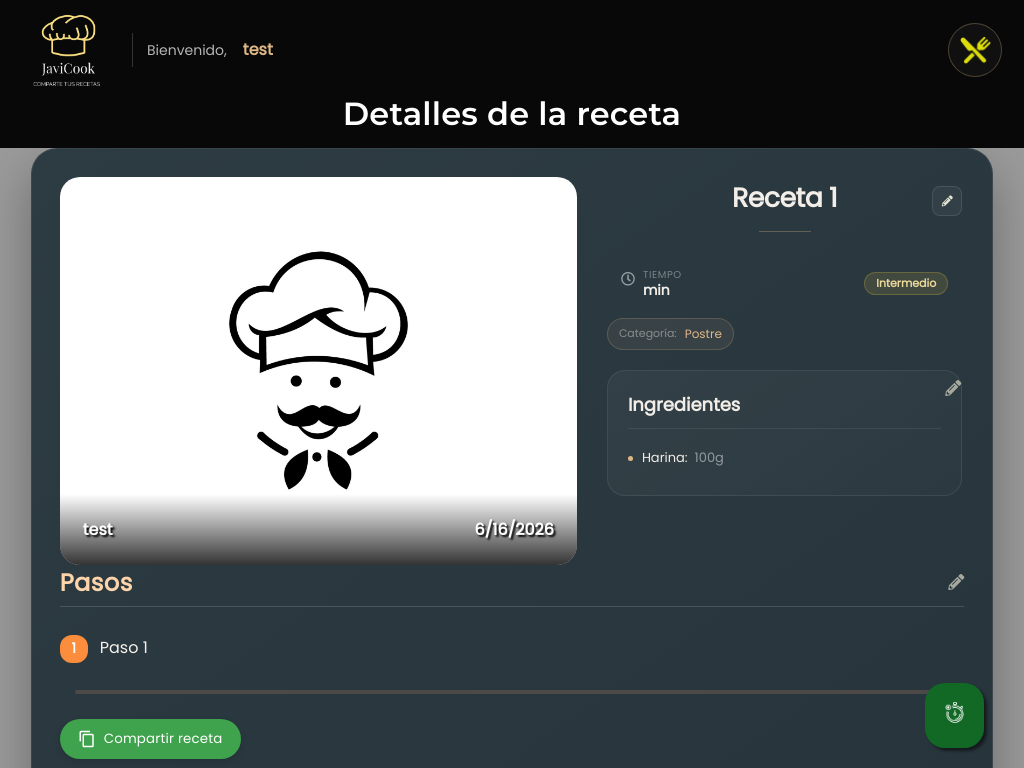
Test: Flujo de recetas › Deberia permitir editar una receta desde el detalle
Click the button with class "btn-editar-titulo" at (947, 201), box left=932, top=186, right=962, bottom=216
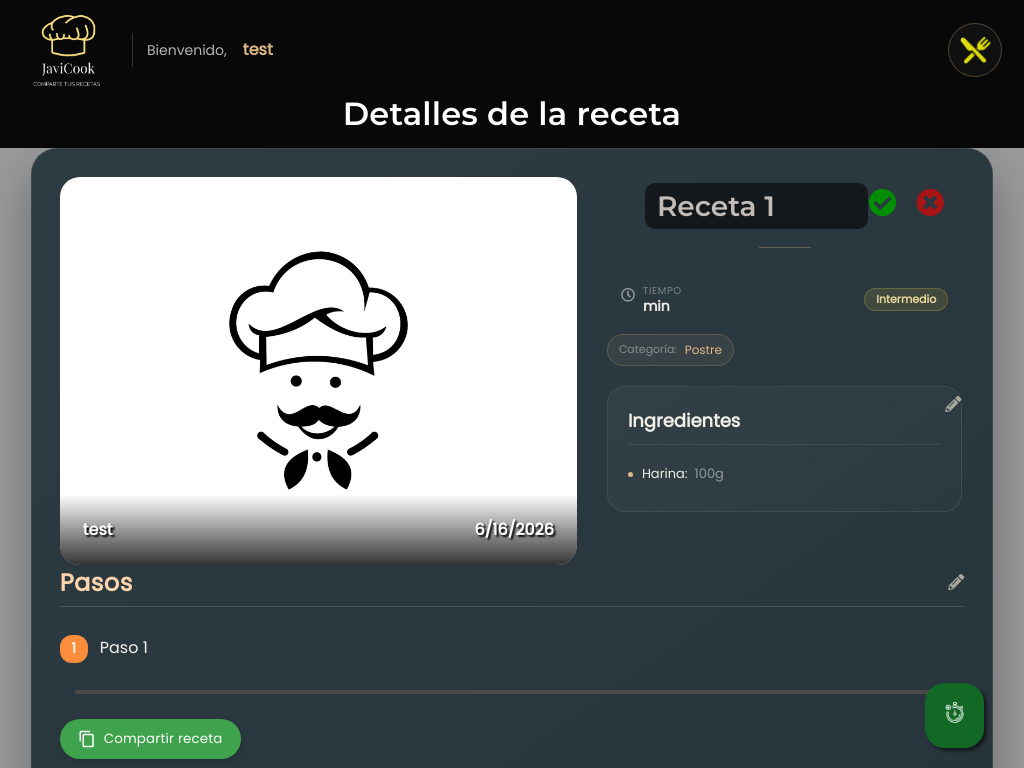
Replace the text in the field with class "nuevo-titulo" with "Receta Editada" at (757, 206), box left=645, top=183, right=869, bottom=229
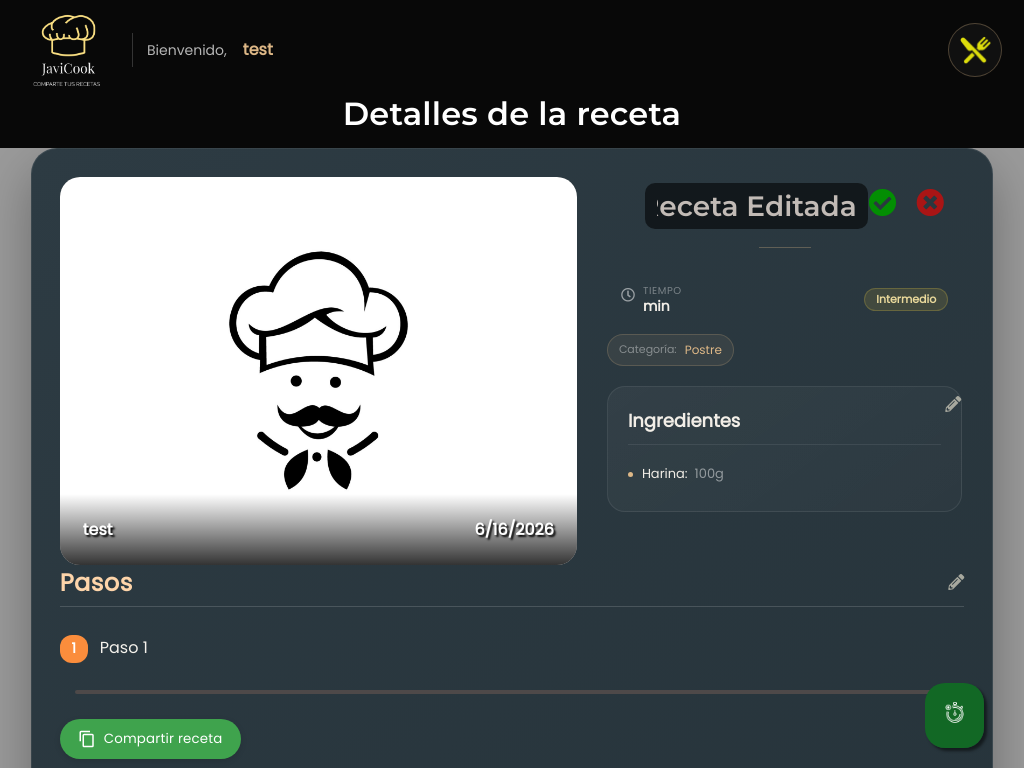
Click the button with class "btn-guardar-titulo" at (872, 204), box left=868, top=183, right=876, bottom=225
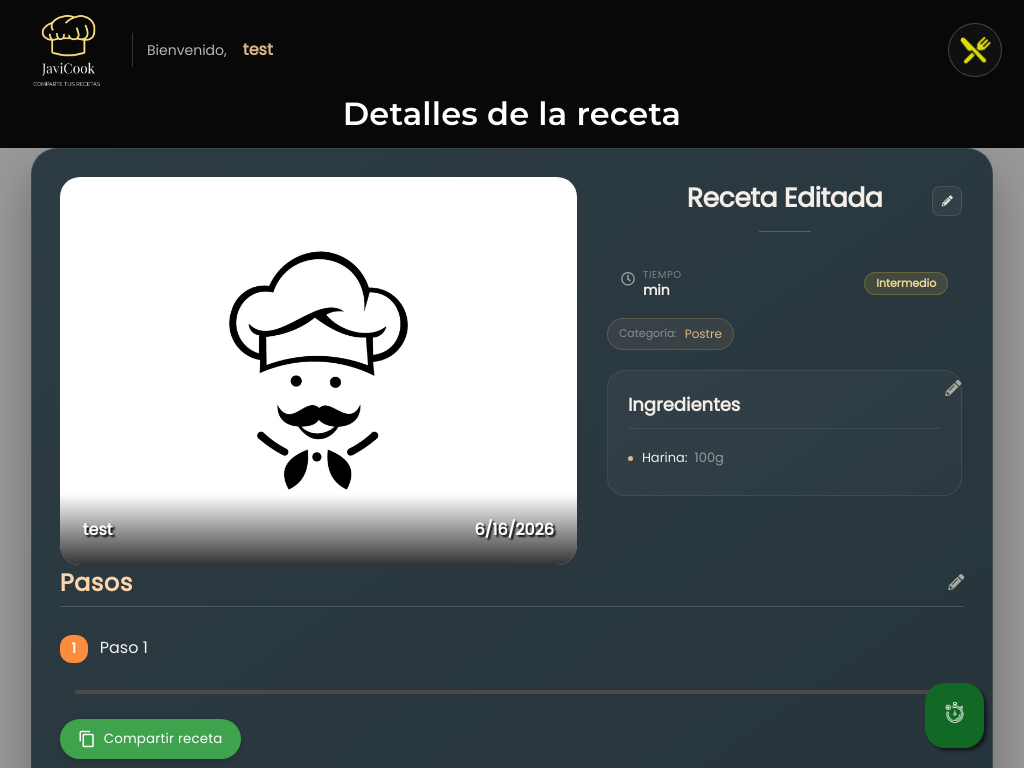
Expected: the text "Receta Editada" is shown, left=687, top=179, right=882, bottom=216
